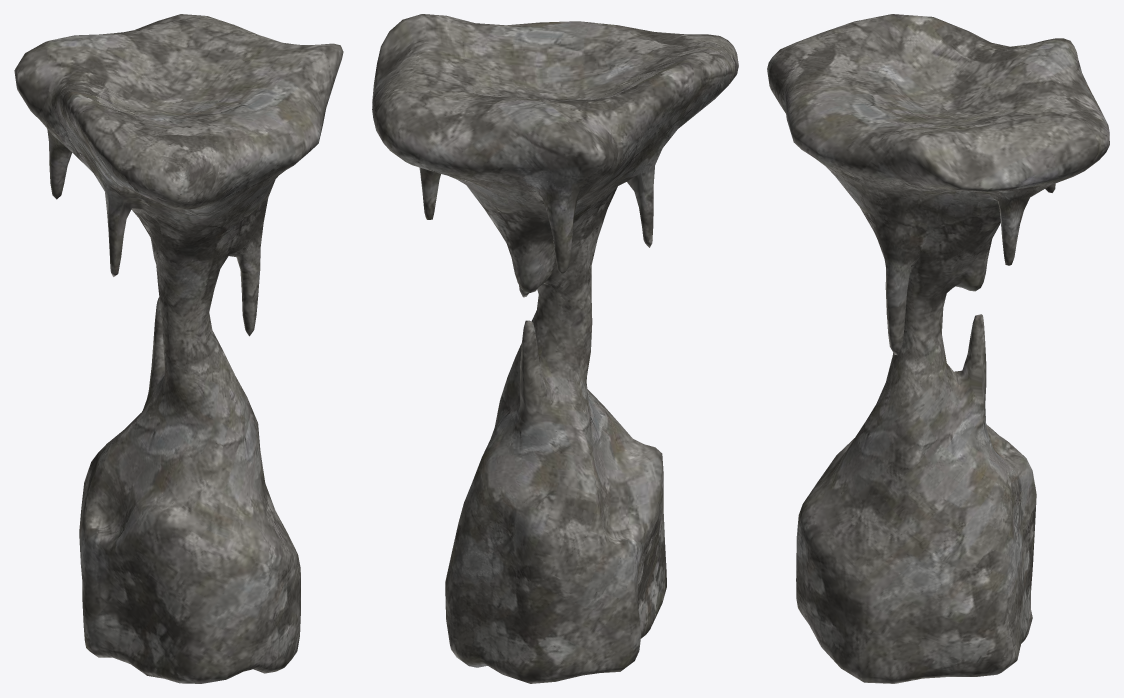
The model's file is stalagmite_a.glb.
The picture shows the model from 3 angles, left to right: view 1: azimuth 30°, elevation 25°; view 2: azimuth 150°, elevation 25°; view 3: azimuth 270°, elevation 25°; orthographic projection. The views are drawn at different scales.
Parts seen in each view (by area): view 1: Capsule_64_Capsule_64_0; view 2: Capsule_64_Capsule_64_0; view 3: Capsule_64_Capsule_64_0.
Boxes of the visible parts, left/top/right/bottom form: Capsule_64_Capsule_64_0: left=14, top=14, right=343, bottom=683; Capsule_64_Capsule_64_0: left=372, top=14, right=738, bottom=683; Capsule_64_Capsule_64_0: left=767, top=14, right=1109, bottom=683.
Size of the model in its own units: 3.15 by 6.17 by 3.29.
1 material, 1 textured.
